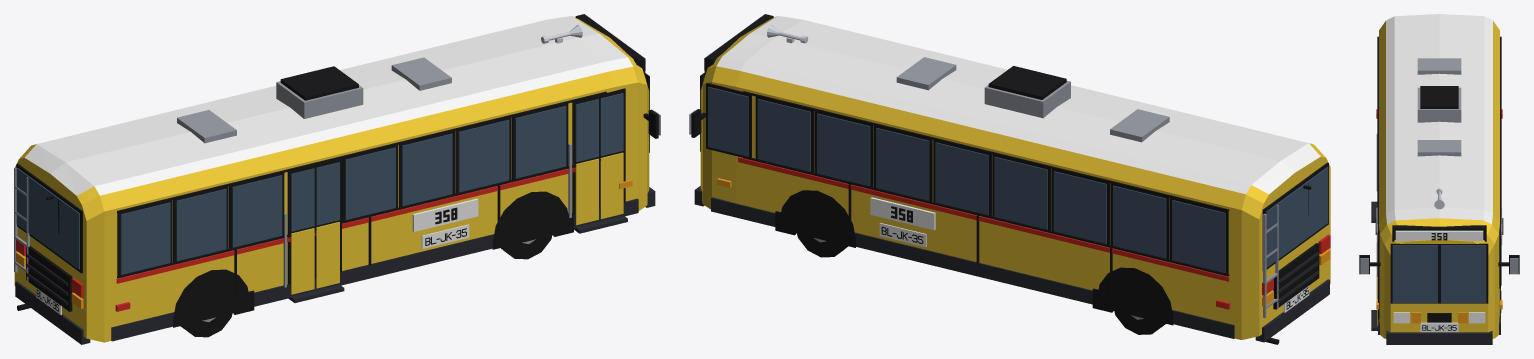
Rendered from micro_amarilla.obj.
The picture shows the model from 3 angles, left to right: view 1: azimuth 30°, elevation 25°; view 2: azimuth 150°, elevation 25°; view 3: azimuth 270°, elevation 25°; orthographic projection. The views are drawn at different scales.
Visible parts, largest first — view 1: micro_amarilla; view 2: micro_amarilla; view 3: micro_amarilla.
Part boxes in pixels (<box>): micro_amarilla: <box>14,14,660,344</box>; micro_amarilla: <box>689,14,1330,344</box>; micro_amarilla: <box>1359,14,1519,344</box>.
Size of the model in its own units: 10.8 by 3.43 by 3.32.
